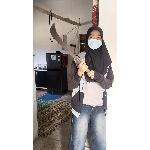Golok: (48, 20, 94, 76)
